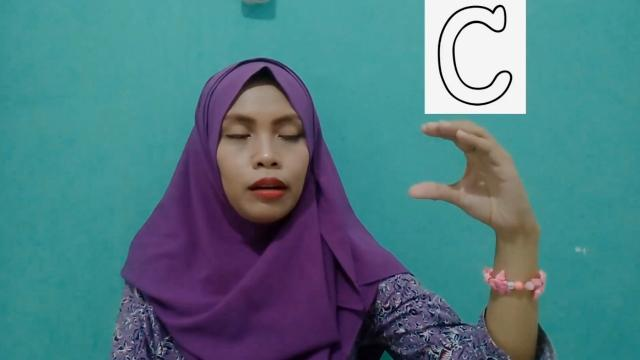C: (408, 119, 538, 233)
